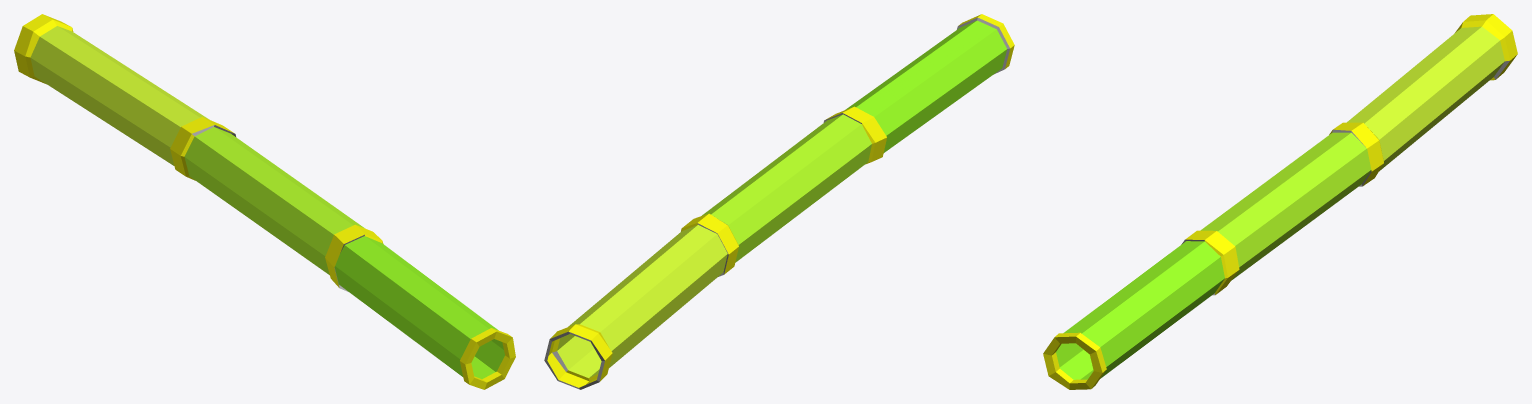
The model's file is BambooPlatform.fbx.
3 views of the same model, side by side, from view 1: azimuth 30°, elevation 25°; view 2: azimuth 150°, elevation 25°; view 3: azimuth 330°, elevation 25° (orthographic).
Parts seen in each view (by area): view 1: polySurface500; view 2: polySurface500; view 3: polySurface500.
Part boxes in pixels (box(x1,y1,x2,y2)): polySurface500: box(14, 14, 515, 389); polySurface500: box(544, 14, 1014, 389); polySurface500: box(1043, 14, 1517, 389).
Bounding box in the file's own units: 1.21 × 0.9856 × 12.66.
